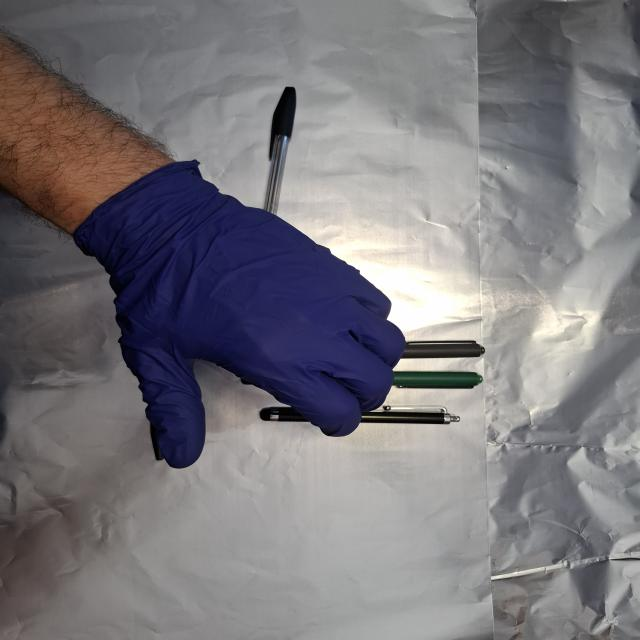glove_on: (75, 156, 409, 471)
